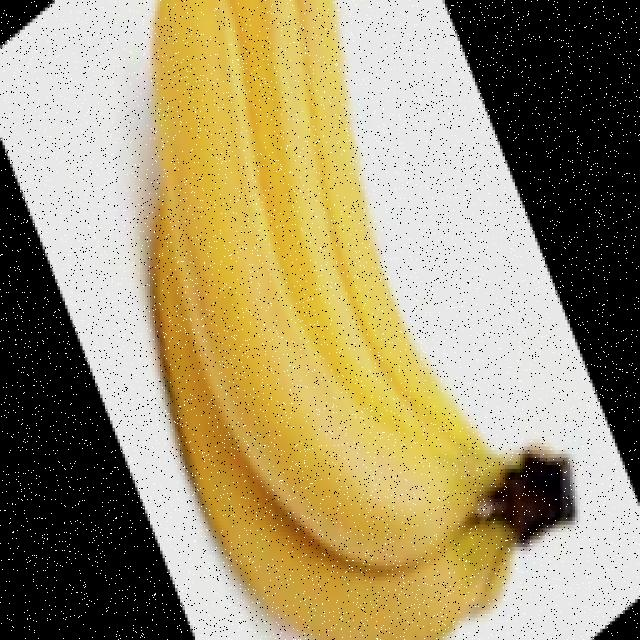god quality banana: (152, 4, 571, 638)
